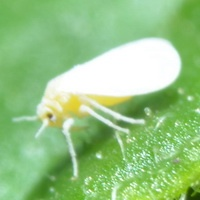insect: (12, 38, 180, 176)
